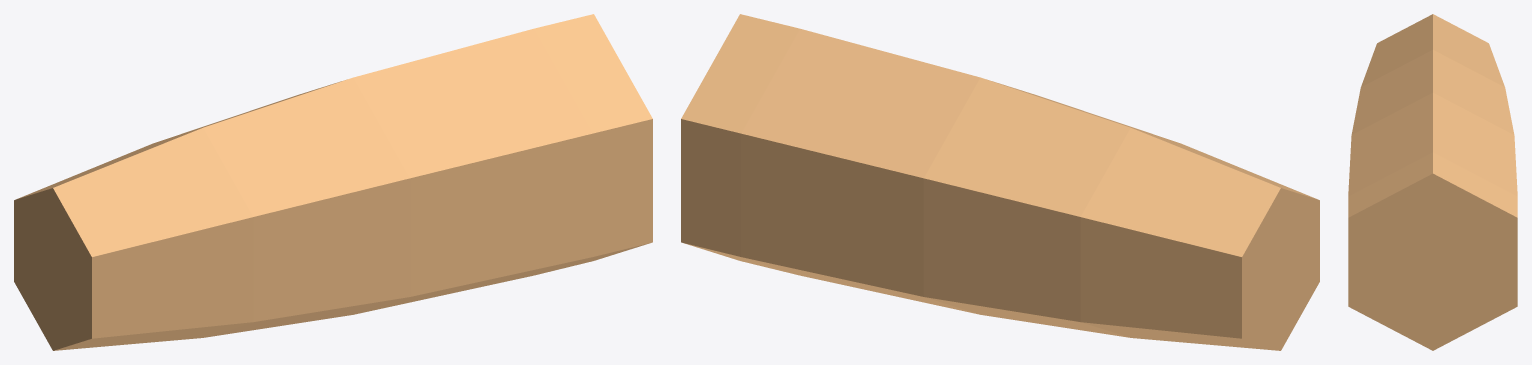
File: grip1Collider.obj
3 views of the same model, side by side, from view 1: azimuth 30°, elevation 25°; view 2: azimuth 150°, elevation 25°; view 3: azimuth 270°, elevation 25° (orthographic). The views are drawn at different scales.
Parts seen in each view (by area): view 1: rollingPin.001; view 2: rollingPin.001; view 3: rollingPin.001.
Boxes of the visible parts, left/top/right/bottom form: rollingPin.001: left=14, top=14, right=652, bottom=350; rollingPin.001: left=681, top=14, right=1319, bottom=350; rollingPin.001: left=1348, top=14, right=1517, bottom=350.
Bounding box in the file's own units: 0.18 × 0.0785 × 0.068.
